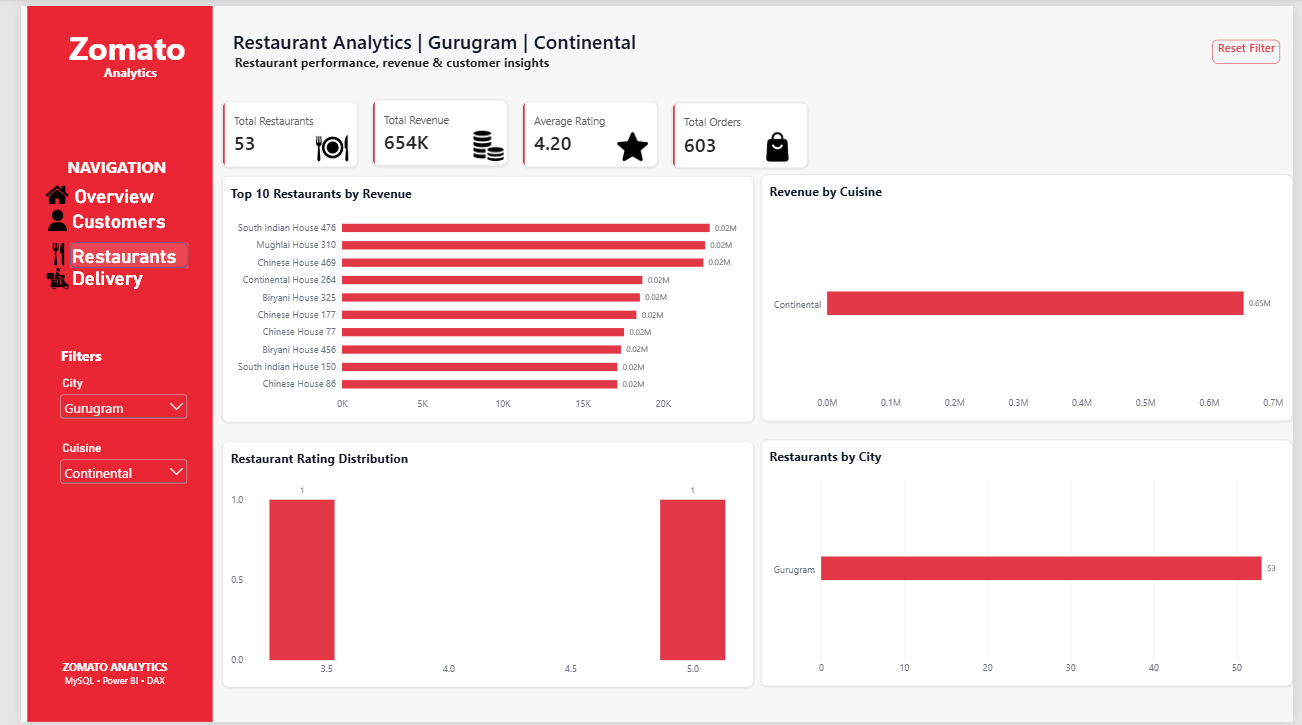

Layout of this report page (visuals, bound fields, positions):
{"tool":"powerbi","page":{"name":"Restaurants","canvas":[1920,1080],"ordinal":4},"visuals":[{"type":"textbox","box":[28.8,20.6,240.8,84.4],"z":0},{"type":"actionButton","title":"Overview","box":[70,247,131.7,39.1],"z":1000},{"type":"actionButton","title":"Restaurants","box":[70,325.2,170.8,35],"z":2000},{"type":"actionButton","title":"Delivery","box":[70,360.2,170.8,35],"z":3000},{"type":"shape","box":[57.6,286.1,179.1,39.1],"z":4000},{"type":"shape","box":[10.3,0,279.9,1080.6],"z":5000},{"type":"textbox","box":[38.8,30.6,240.8,84.4],"z":6000},{"type":"actionButton","title":"Overview","box":[80.3,269.6,131.7,39.1],"z":7000},{"type":"actionButton","title":"Restaurants","box":[78.2,360.2,170.8,35],"z":8000},{"type":"actionButton","title":"Delivery","box":[78.2,395.2,170.8,35],"z":9000},{"type":"shape","box":[74.1,356.1,179.1,39.1],"z":10000},{"type":"actionButton","title":"Customers","box":[78.2,306.7,156.4,39.1],"z":11000},{"type":"cardVisual","fields":{"Data":["Customers.Total Restaurants"]},"box":[304.6,144.1,205,100],"z":12000},{"type":"cardVisual","fields":{"Data":["Customers.Total Revenue"]},"box":[531,142,205,100],"z":13000},{"type":"cardVisual","fields":{"Data":["Customers.Average Rating"]},"box":[757.5,144.1,205,100],"z":14000},{"type":"cardVisual","fields":{"Data":["Customers.Total Orders"]},"box":[983.9,146.1,205,100],"z":15000},{"type":"clusteredBarChart","title":"Top 10 Restaurants by Revenue","fields":{"Category":["Restaurants.Restaurant_Name"],"Y":["Customers.Total Revenue"]},"box":[304.6,257.3,802,372],"z":16000},{"type":"clusteredBarChart","title":"Revenue by Cuisine","fields":{"Y":["Customers.Total Revenue"],"Category":["Restaurants.Cuisine"]},"box":[1117.7,255.2,802,372],"z":17000},{"type":"clusteredColumnChart","title":"Restaurant Rating Distribution","fields":{"Category":["Restaurants.Rating"],"Y":["Customers.Restaurants by Selected City"]},"box":[304.6,656.6,802,372],"z":18000},{"type":"clusteredBarChart","title":"Restaurants by City","fields":{"Y":["Customers.Total Restaurants"],"Category":["Dim_Cit.City"]},"box":[1117.7,654.5,802,372],"z":19000},{"type":"actionButton","title":"Overview","box":[80.3,269.6,144.1,39.1],"z":20000},{"type":"actionButton","title":"Customers","box":[78.2,306.7,170.8,30.9],"z":21000},{"type":"actionButton","title":"Delivery","box":[78.2,395.2,170,34],"z":22000},{"type":"actionButton","title":"Restaurants","box":[78.2,360.2,170.8,32.9],"z":23000},{"type":"textbox","box":[39.1,86.4,251.1,70],"z":24000},{"type":"slicer","fields":{"Values":["Dim_Cit.City"]},"box":[55.6,557.8,201,69],"z":25000},{"type":"slicer","fields":{"Values":["Restaurants.Cuisine"]},"box":[55.6,656.6,201,69],"z":26000},{"type":"cardVisual","fields":{"Data":["Customers.Restaurant Page Title"]},"box":[304.6,0,782.2,105],"z":27000},{"type":"textbox","box":[70,227,160.5,37],"z":28000},{"type":"textbox","box":[61.7,985.9,205.9,79.5],"z":29000},{"type":"image","box":[1117.7,183.2,49.4,59.7],"z":30000},{"type":"image","box":[899.5,183.2,46,58],"z":31000},{"type":"image","box":[683.4,181.1,45.3,59.7],"z":32000},{"type":"image","box":[444.6,185.2,49,59],"z":33000},{"type":"actionButton","title":"Reset Filter","box":[1799,51.5,102.1,35.7],"z":34000},{"type":"image","box":[30.9,267.6,48.9,34],"z":35000},{"type":"image","box":[32.9,306.7,46,32],"z":36000},{"type":"image","box":[37,356.1,38,36],"z":37000},{"type":"image","box":[37,395.2,36,34],"z":38000},{"type":"textbox","box":[61,512.5,80.3,45.3],"z":39000},{"type":"textbox","box":[323.2,72,537.2,32.9],"z":40000}]}

Visuals, with their boxes in screenshot pixels (x1, y1, x2, y2), scaled from the page's 1920x1080 canvas onto the 1302x725 screenshot:
textbox: [20,14,183,70]
"Overview" actionButton: [47,166,137,192]
"Restaurants" actionButton: [47,218,163,242]
"Delivery" actionButton: [47,242,163,265]
shape: [39,192,161,218]
shape: [7,0,197,724]
textbox: [26,21,190,77]
"Overview" actionButton: [54,181,144,207]
"Restaurants" actionButton: [53,242,169,265]
"Delivery" actionButton: [53,265,169,289]
shape: [50,239,172,265]
"Customers" actionButton: [53,206,159,232]
cardVisual - Customers.Total Restaurants: [207,97,346,164]
cardVisual - Customers.Total Revenue: [360,95,499,162]
cardVisual - Customers.Average Rating: [514,97,653,164]
cardVisual - Customers.Total Orders: [667,98,806,165]
"Top 10 Restaurants by Revenue" clusteredBarChart: [207,173,750,422]
"Revenue by Cuisine" clusteredBarChart: [758,171,1301,421]
"Restaurant Rating Distribution" clusteredColumnChart: [207,441,750,690]
"Restaurants by City" clusteredBarChart: [758,439,1301,689]
"Overview" actionButton: [54,181,152,207]
"Customers" actionButton: [53,206,169,227]
"Delivery" actionButton: [53,265,168,288]
"Restaurants" actionButton: [53,242,169,264]
textbox: [27,58,197,105]
slicer - Dim_Cit.City: [38,374,174,421]
slicer - Restaurants.Cuisine: [38,441,174,487]
cardVisual - Customers.Restaurant Page Title: [207,0,737,70]
textbox: [47,152,156,177]
textbox: [42,662,181,715]
image: [758,123,791,163]
image: [610,123,641,162]
image: [463,122,494,162]
image: [301,124,335,164]
"Reset Filter" actionButton: [1220,35,1289,59]
image: [21,180,54,202]
image: [22,206,54,227]
image: [25,239,51,263]
image: [25,265,50,288]
textbox: [41,344,96,374]
textbox: [219,48,583,70]
